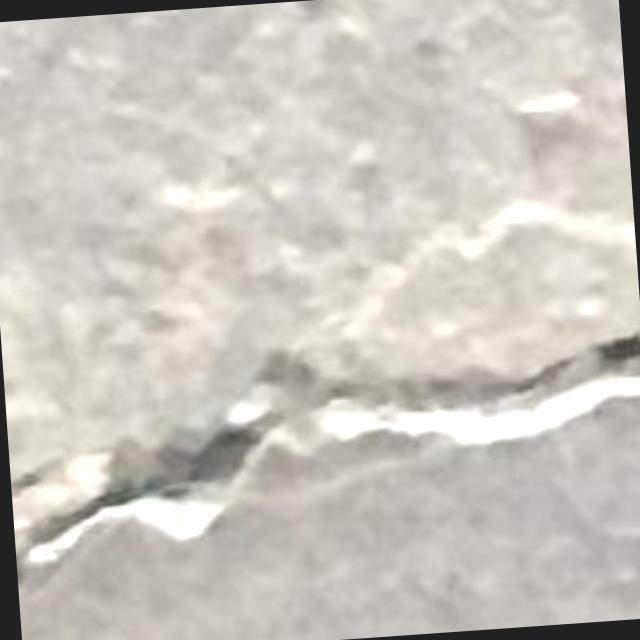crack: (11, 331, 639, 583)
